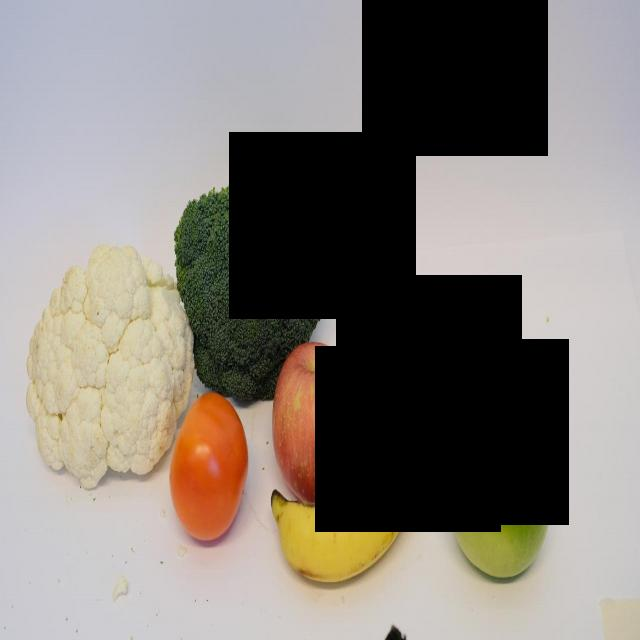apple: (446, 385, 554, 585), (268, 332, 365, 504)
banana: (266, 346, 437, 596)
broccoli: (168, 140, 332, 408)
cauliflower: (23, 236, 203, 493)
tomato: (168, 385, 252, 543)
